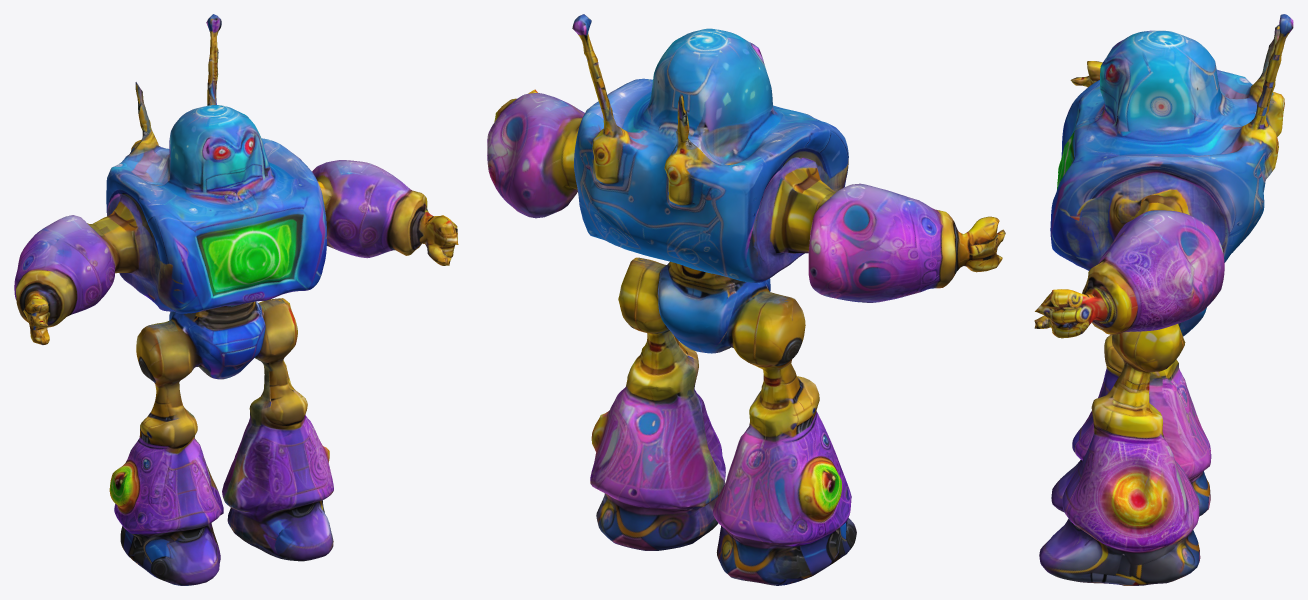
3 views of the same model, side by side, from view 1: azimuth 30°, elevation 25°; view 2: azimuth 150°, elevation 25°; view 3: azimuth 270°, elevation 25° (orthographic). The views are drawn at different scales.
Size of the model in its own units: 1.09 by 1.2 by 0.5052.
Materials: 1 (1 with a texture image).
